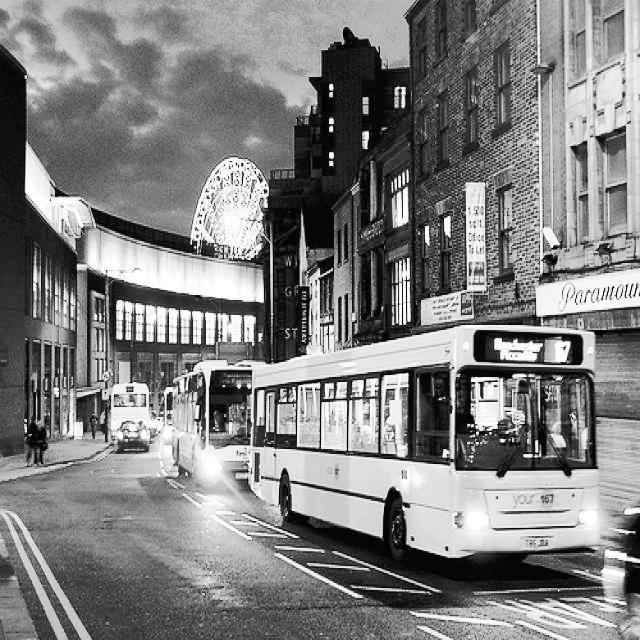Bus: (251, 316, 607, 583), (159, 312, 272, 503), (108, 353, 167, 442)
Car: (113, 419, 157, 454)
